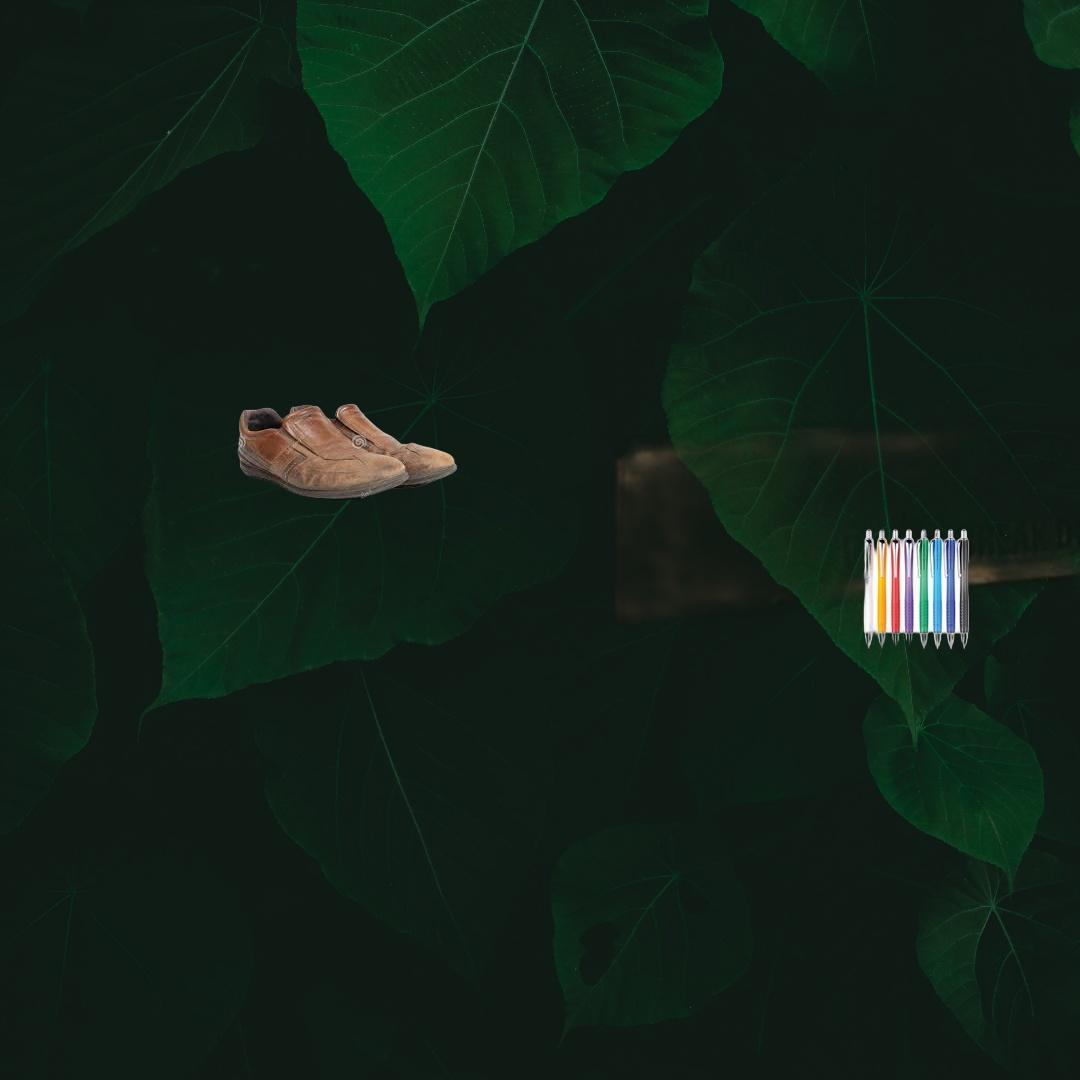penholder: (844, 513, 972, 652)
shoes: (235, 401, 460, 503)
trashbox-cardboard: (615, 116, 1080, 768)
